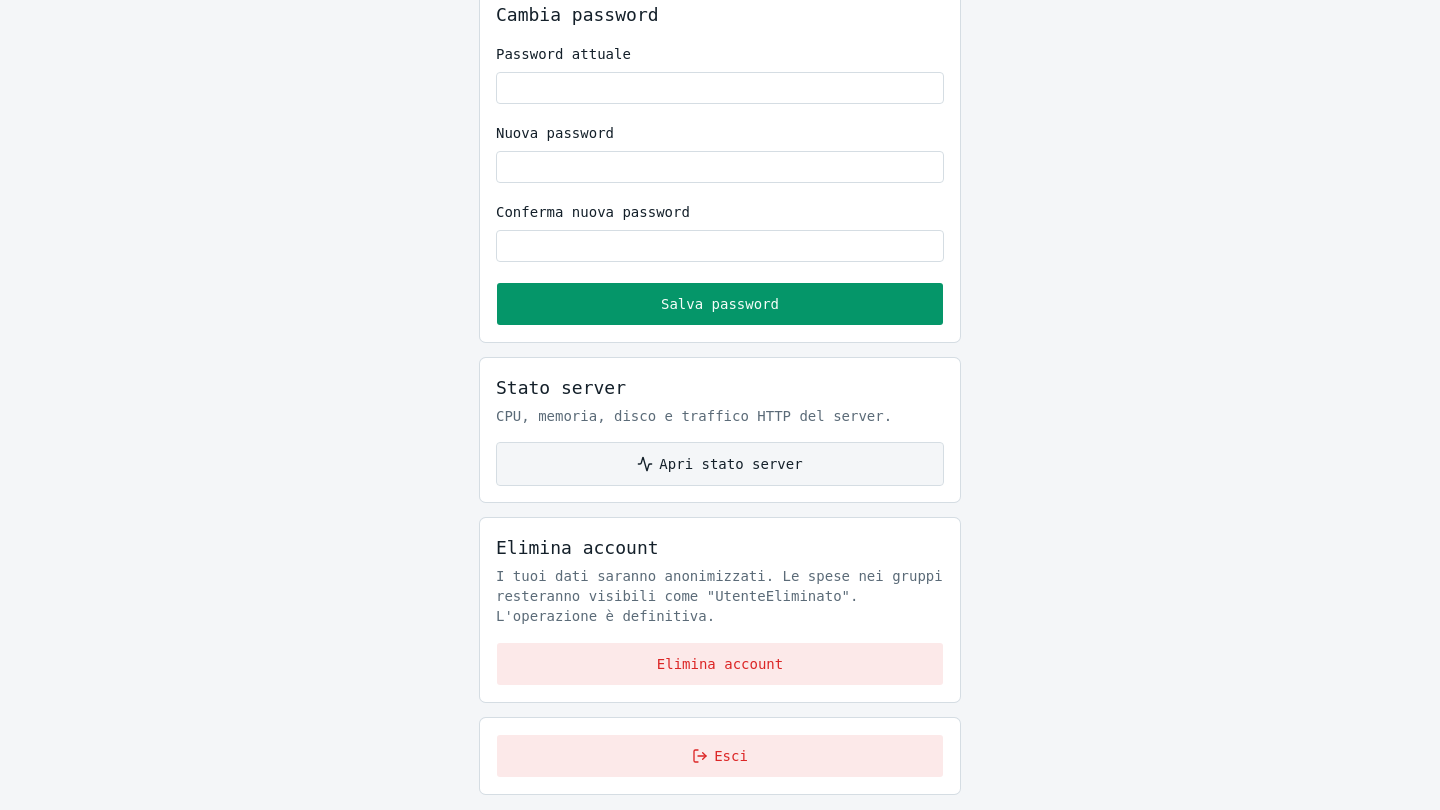
Test: SettingsPage › l’errore API di eliminazione account è mostrato nel dialog
(page scrolled)
Step 1. Click the button "Elimina account" → [720, 664], box [496, 642, 944, 686]
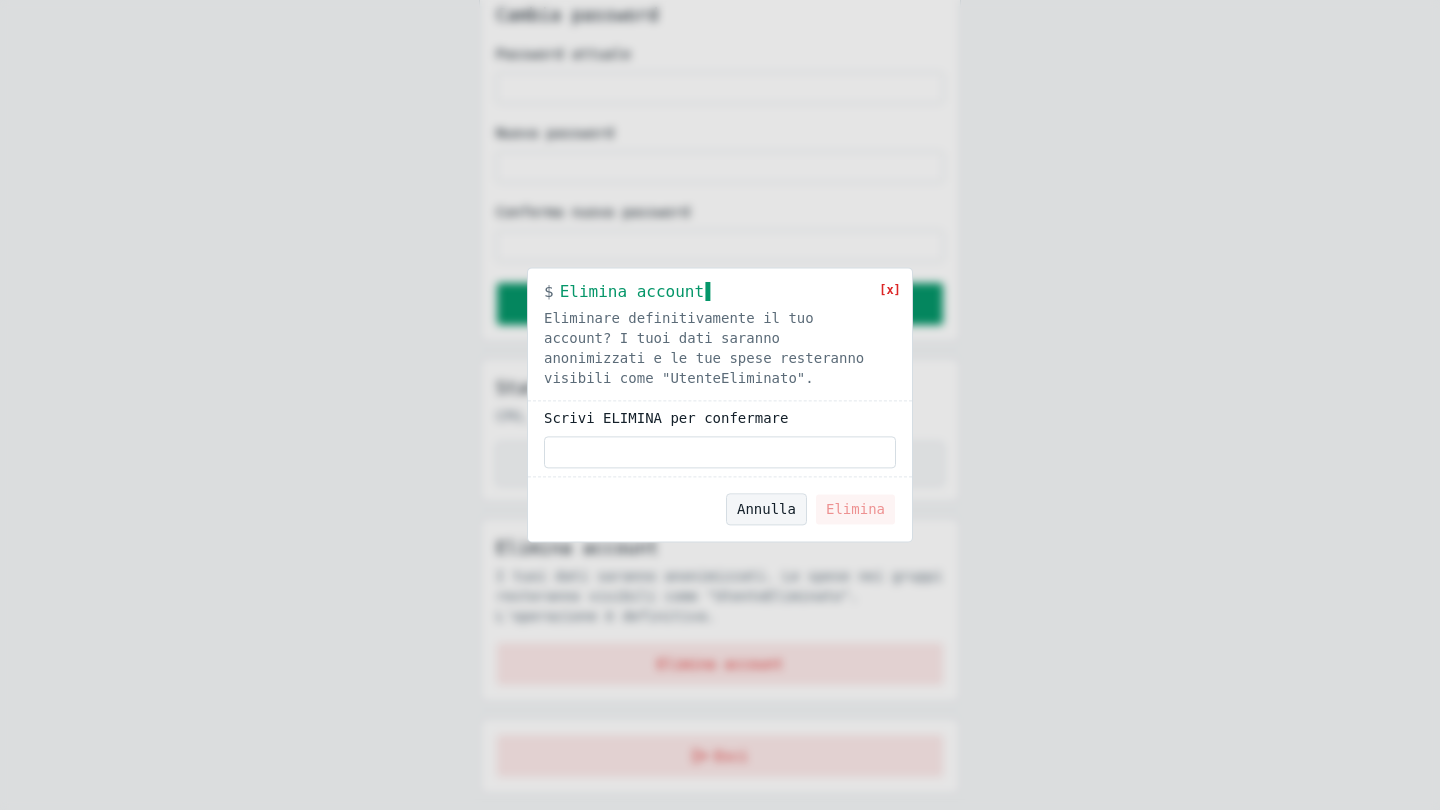
Step 2. Type "ELIMINA" into the field labelled "Scrivi ELIMINA per confermare" → [720, 453], box [544, 437, 896, 469]
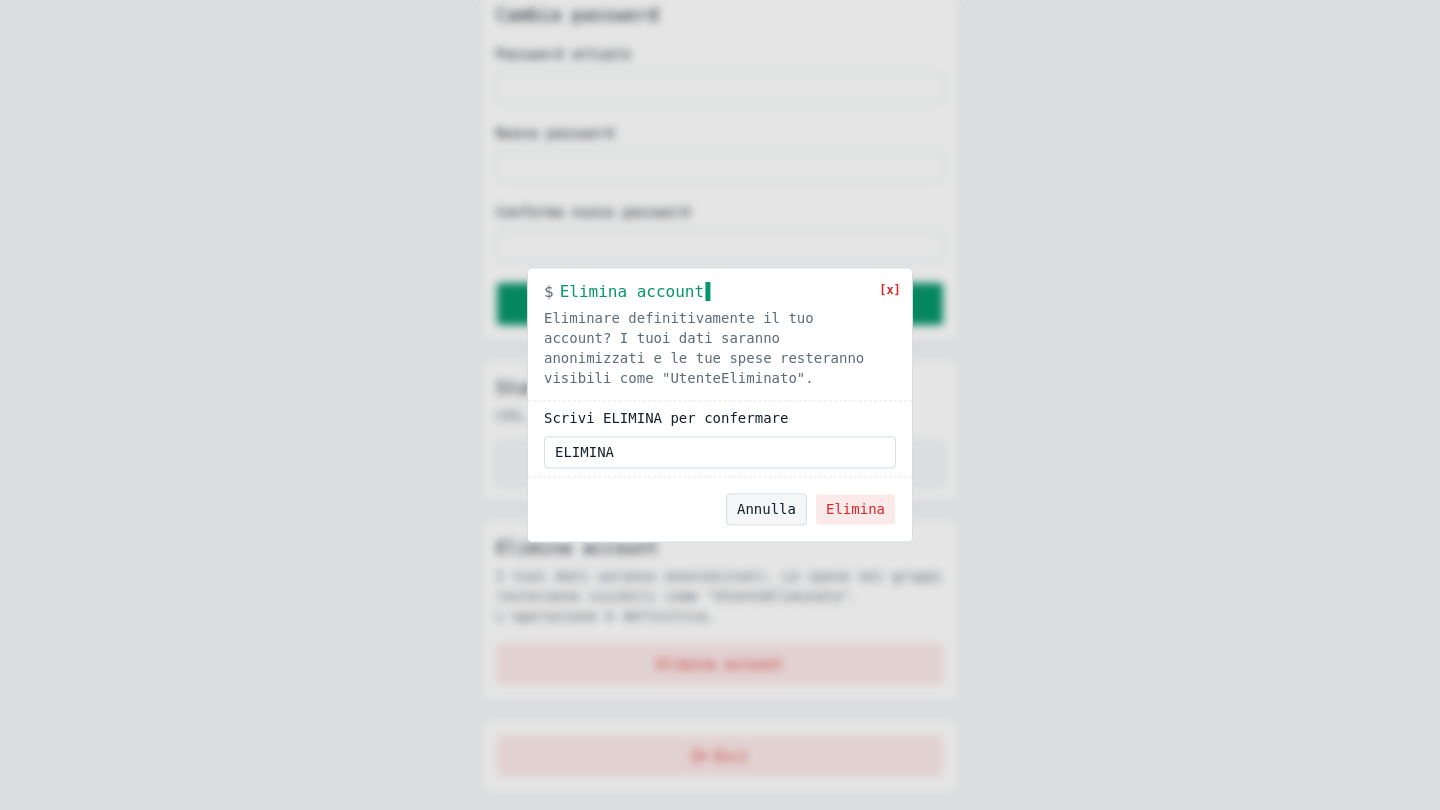
Step 3. Click the button "Elimina" → [856, 510], box [815, 494, 896, 526]
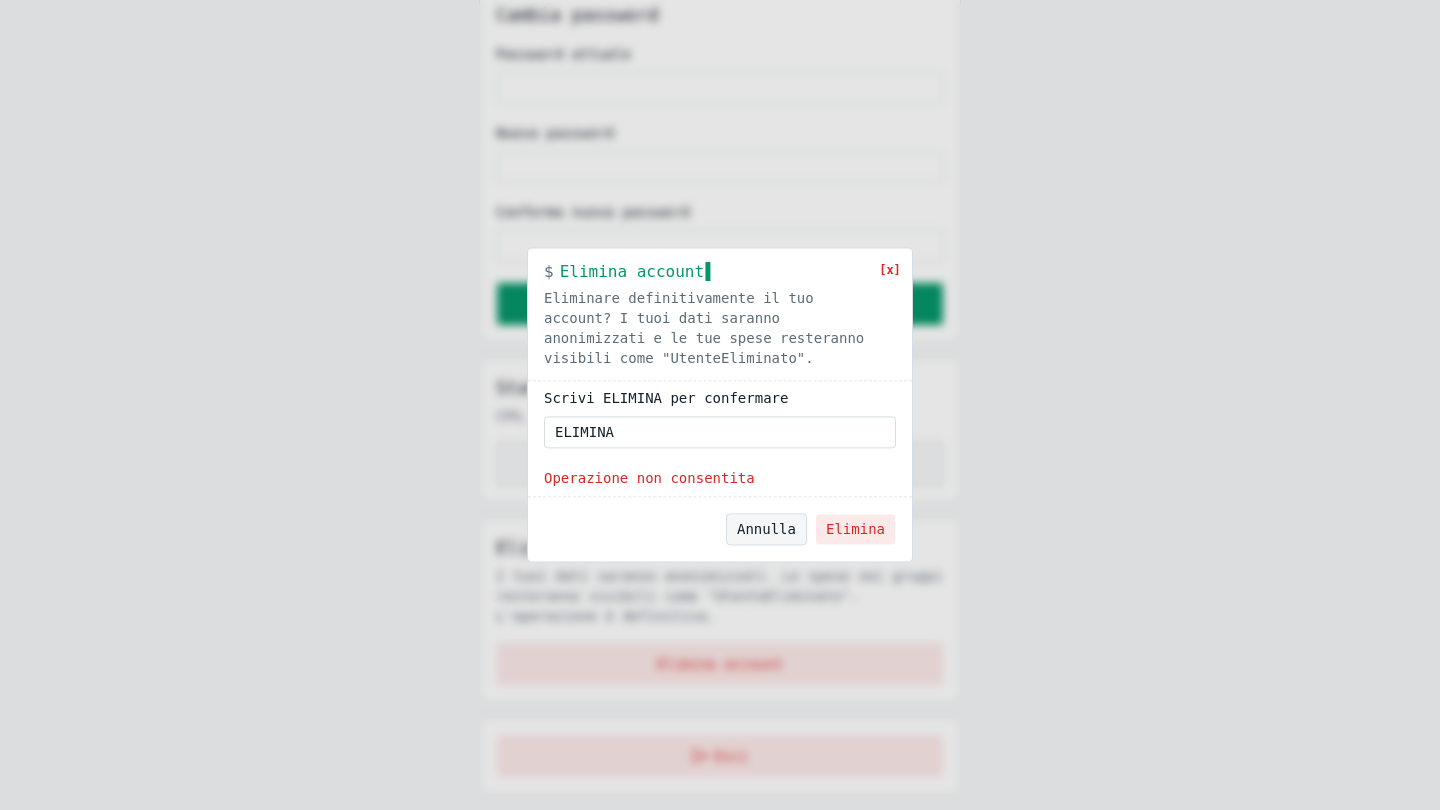
Expected: the text "Operazione non consentita" is shown, [544, 471, 755, 487]
